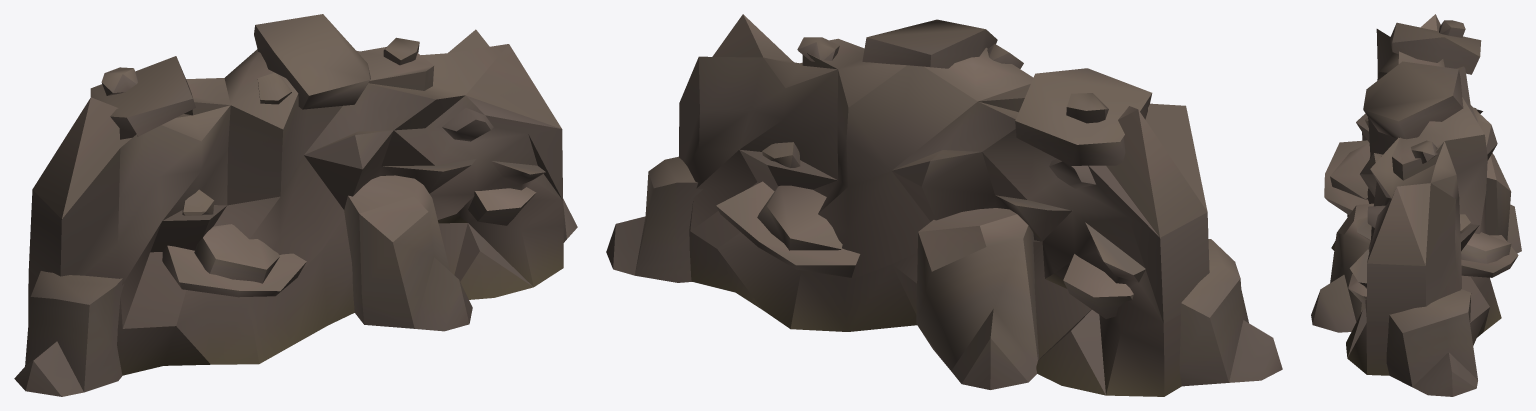
The model's file is rubble_large.glb.
3 renders of one model, left to right at view 1: azimuth 30°, elevation 25°; view 2: azimuth 150°, elevation 25°; view 3: azimuth 270°, elevation 25°, orthographic. The views are drawn at different scales.
Parts seen in each view (by area): view 1: rubble_large; view 2: rubble_large; view 3: rubble_large.
Boxes of the visible parts, left/top/right/bottom form: rubble_large: left=14, top=14, right=577, bottom=396; rubble_large: left=606, top=14, right=1282, bottom=396; rubble_large: left=1311, top=14, right=1521, bottom=396.
Size of the model in its own units: 8.13 by 3.5 by 3.18.
Materials: 1 (1 with a texture image).
